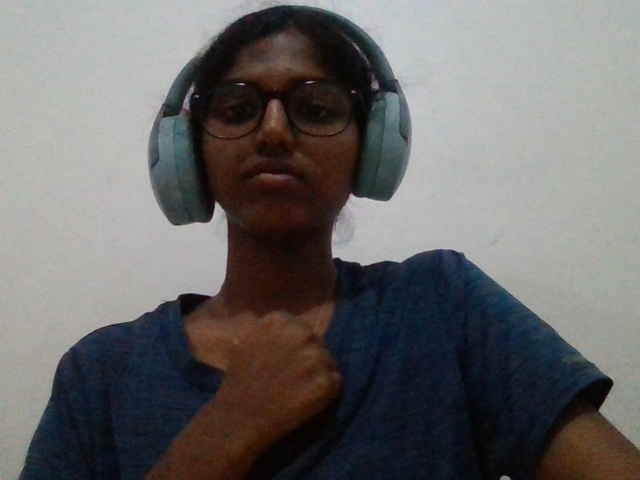Sorry: (174, 303, 393, 473)
